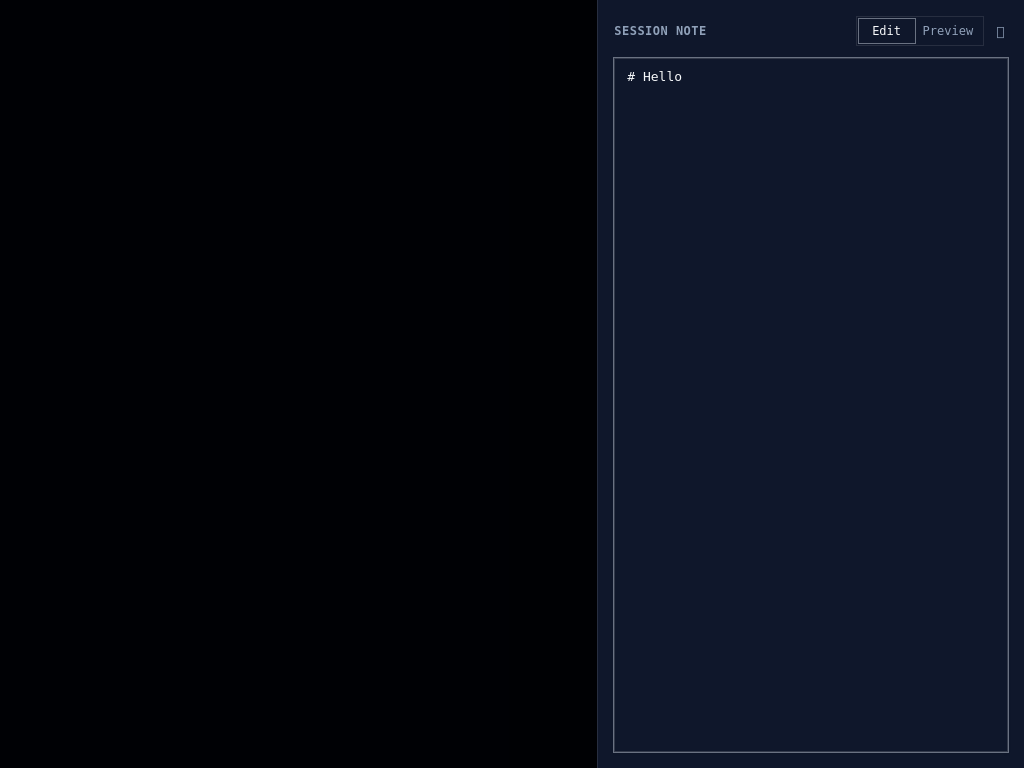
NoteSheet › renders the preview through the shared MarkdownBody (spec D1)
This screenshot has width=1024, height=768.
What coordinates should you click on to do the following:
click the button "Preview"
I would click on:
 (948, 31)
Its box is [915,19,981,43].
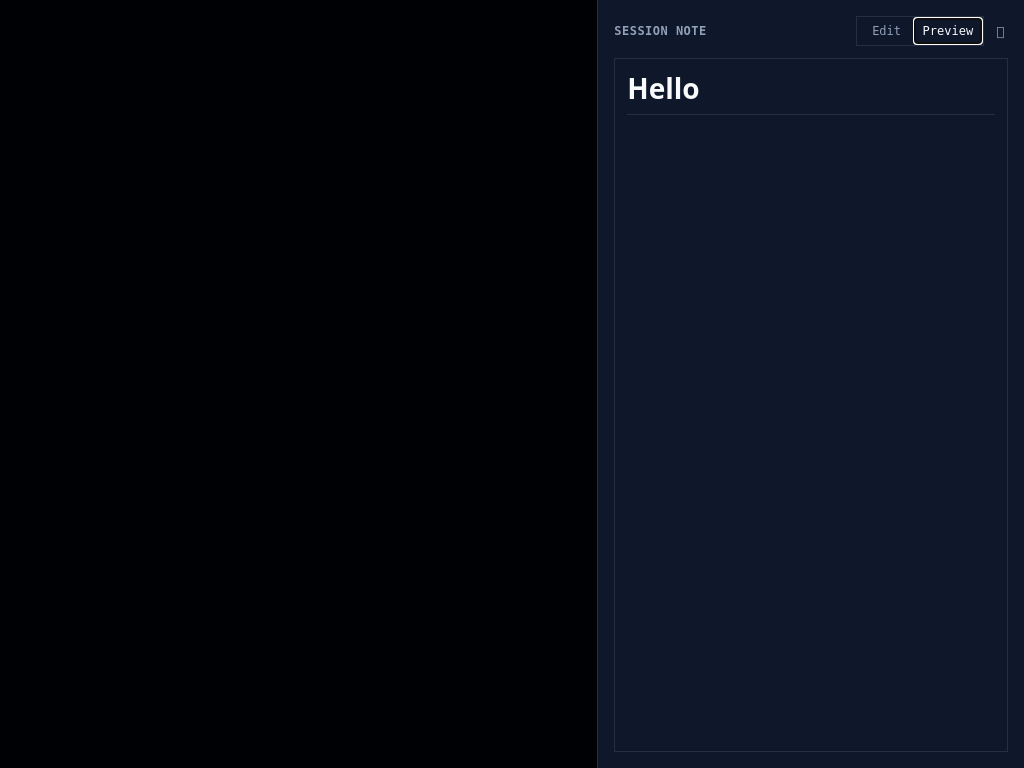
Expected: the heading "Hello" is shown, [627,71,995,115]
